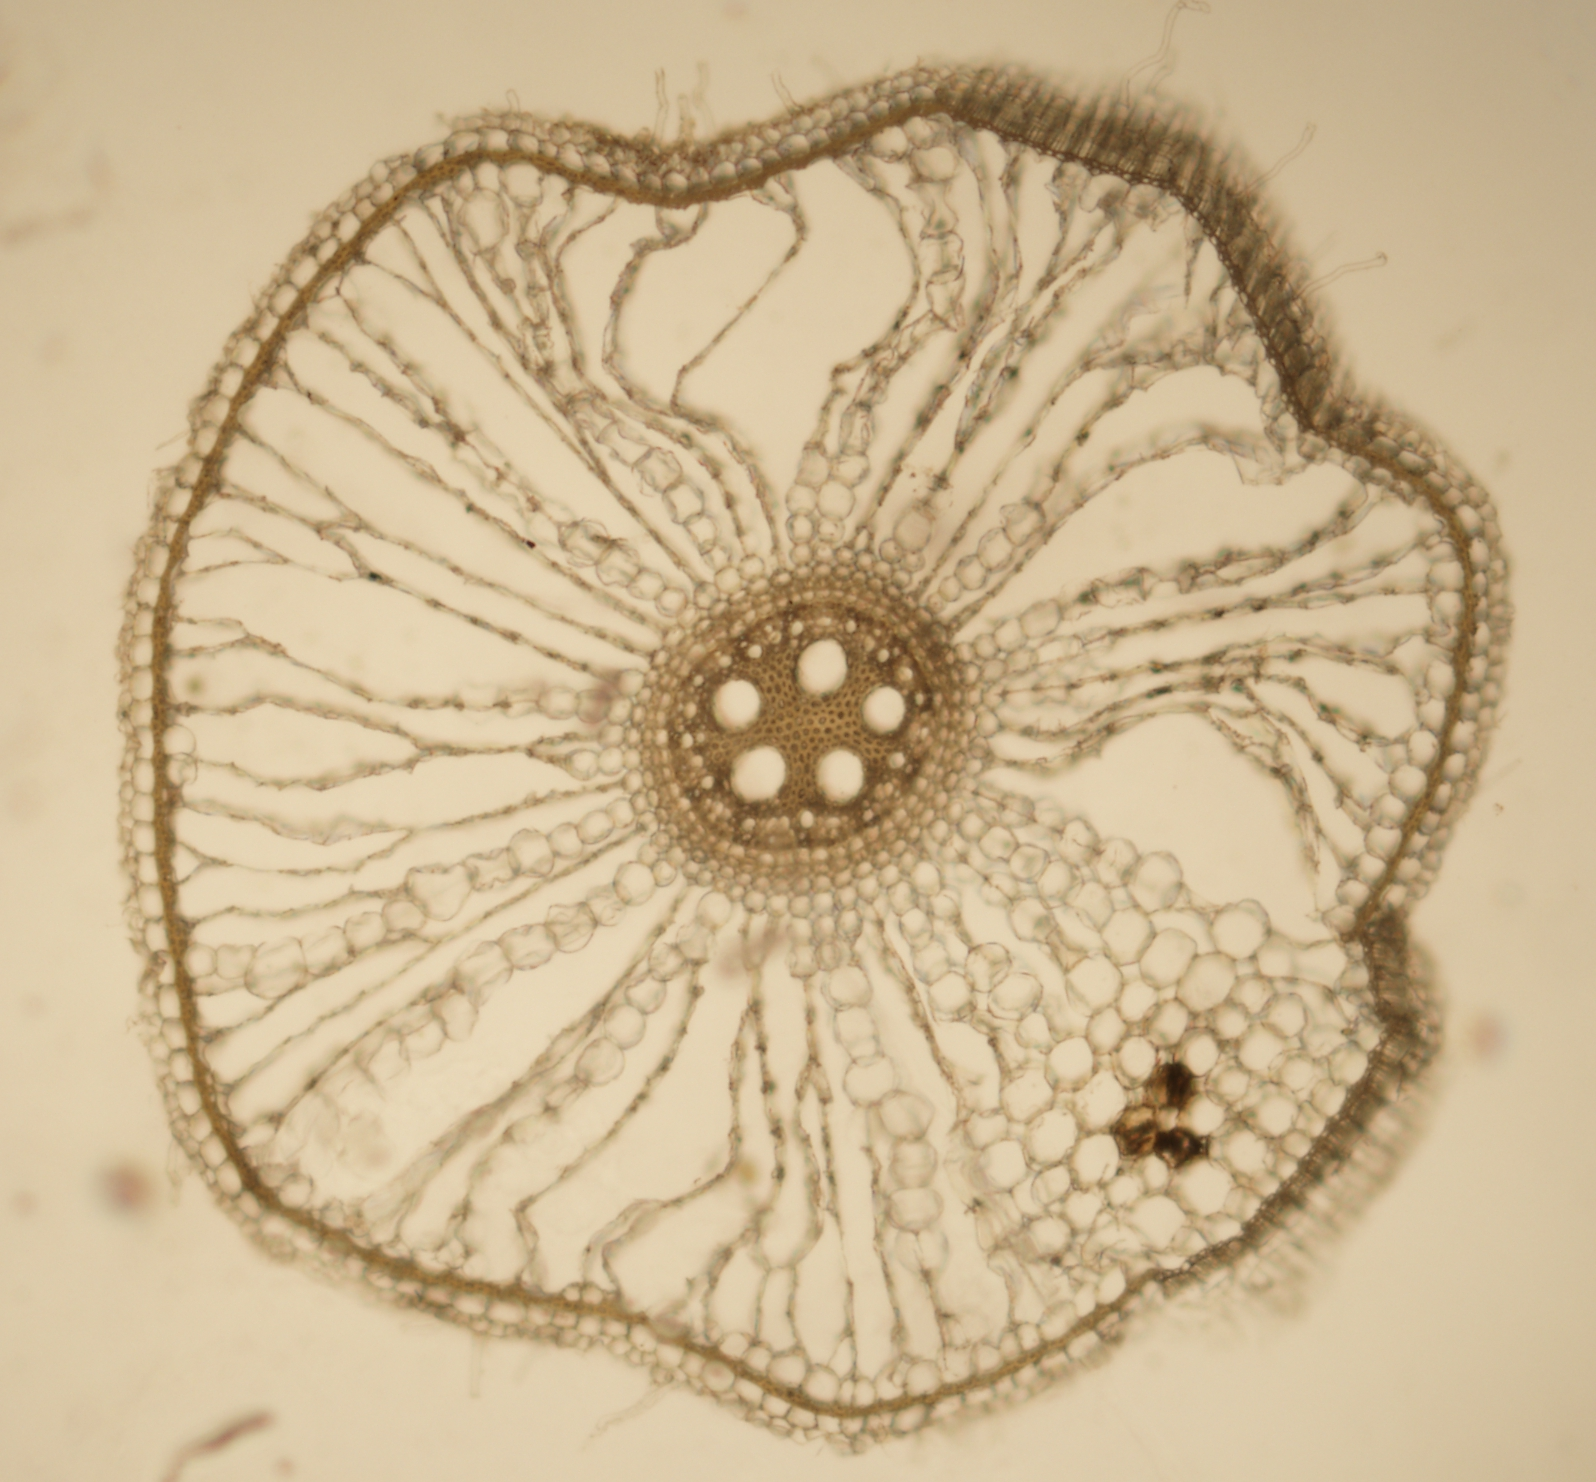lm: (728, 744, 787, 802), (795, 638, 847, 696), (815, 748, 863, 804), (712, 678, 760, 733), (861, 685, 907, 733)
